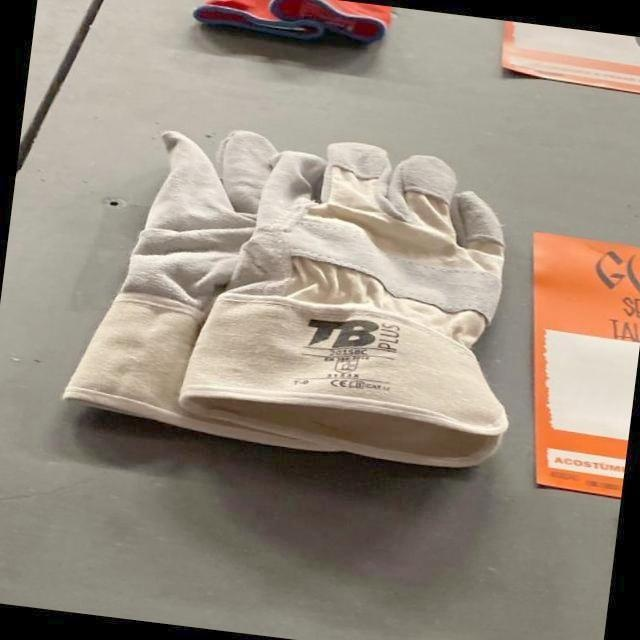Guantes: (170, 116, 496, 491)
